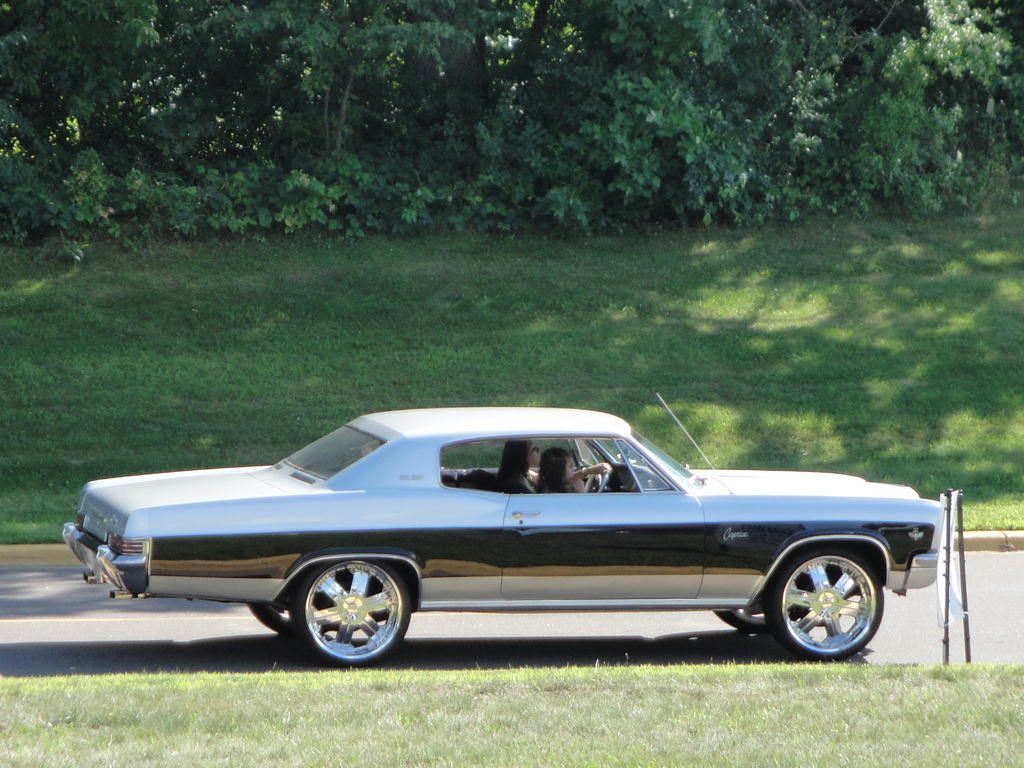Car: (64, 391, 947, 663)
